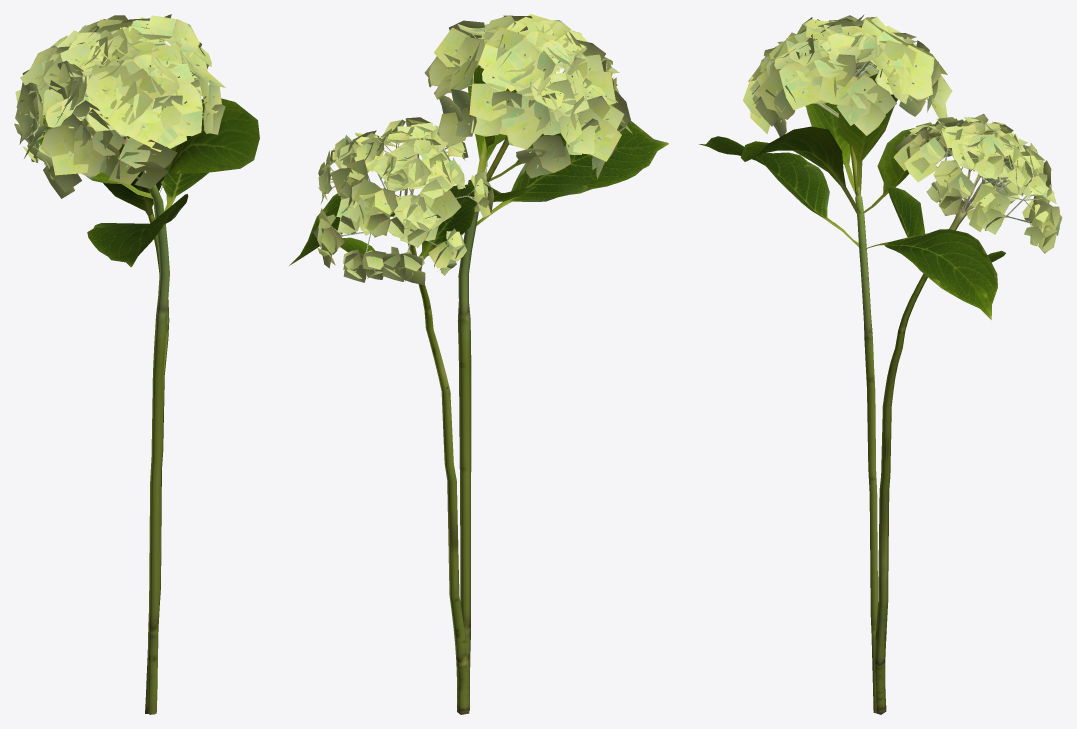
The model's file is Hydrangea_bush_normal_greenyellow.glb.
3 renders of one model, left to right at view 1: azimuth 30°, elevation 25°; view 2: azimuth 150°, elevation 25°; view 3: azimuth 270°, elevation 25°, orthographic. The views are drawn at different scales.
Visible parts, largest first — view 1: BUSHEKK; view 2: BUSHEKK; view 3: BUSHEKK.
Part boxes in pixels (x1,y1,x2,y2): BUSHEKK: [14, 14, 259, 714]; BUSHEKK: [289, 14, 668, 714]; BUSHEKK: [699, 14, 1062, 714].
Bounding box in the file's own units: 1.48 × 3.79 × 1.87.
1 material, 1 textured.
